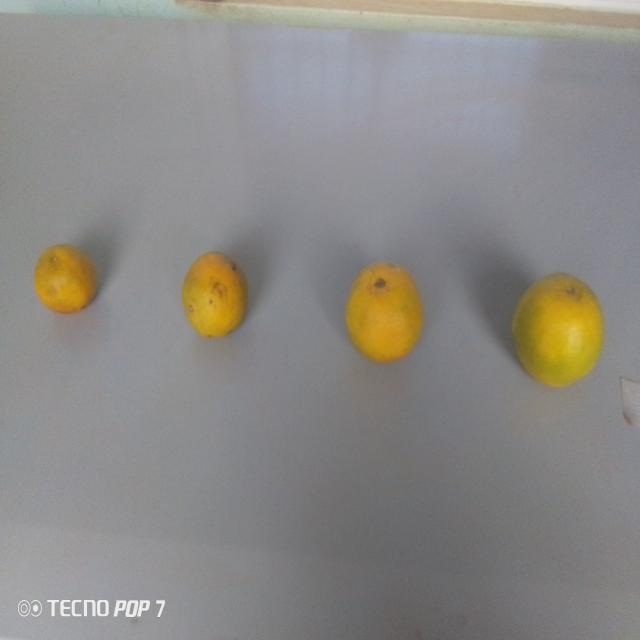Ripe orange: (507, 260, 605, 398), (345, 248, 424, 374), (181, 247, 248, 349), (25, 239, 98, 320)
